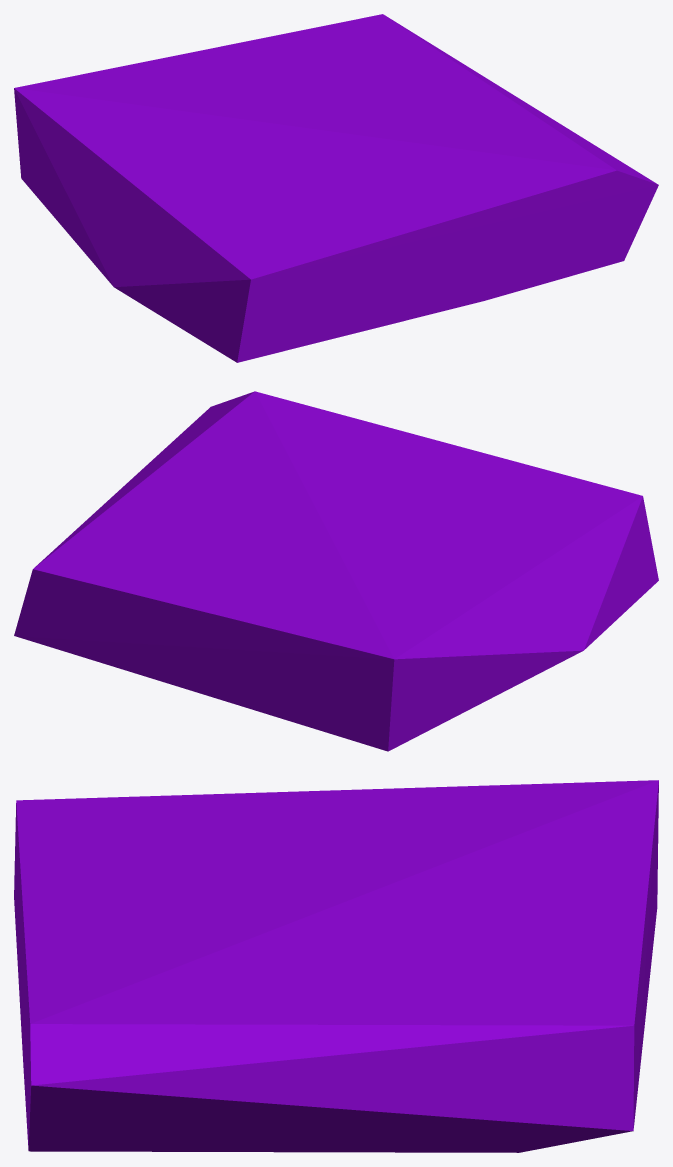
File: camera_convex_piece_003.obj
The picture shows the model from 3 angles, top to bottom: view 1: azimuth 30°, elevation 25°; view 2: azimuth 150°, elevation 25°; view 3: azimuth 270°, elevation 25°; orthographic projection. The views are drawn at different scales.
Bounding box in the file's own units: 0.0165 × 0.00338 × 0.0151.
